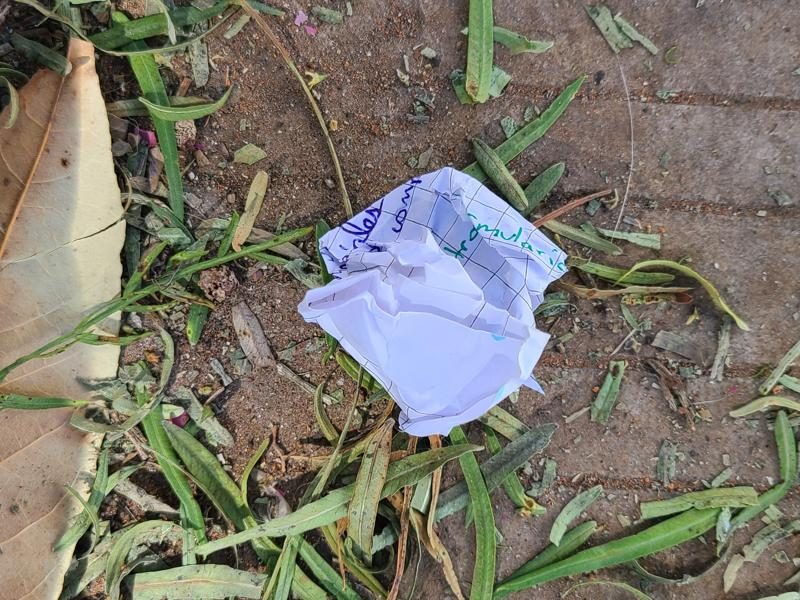papel: (296, 145, 571, 439)
